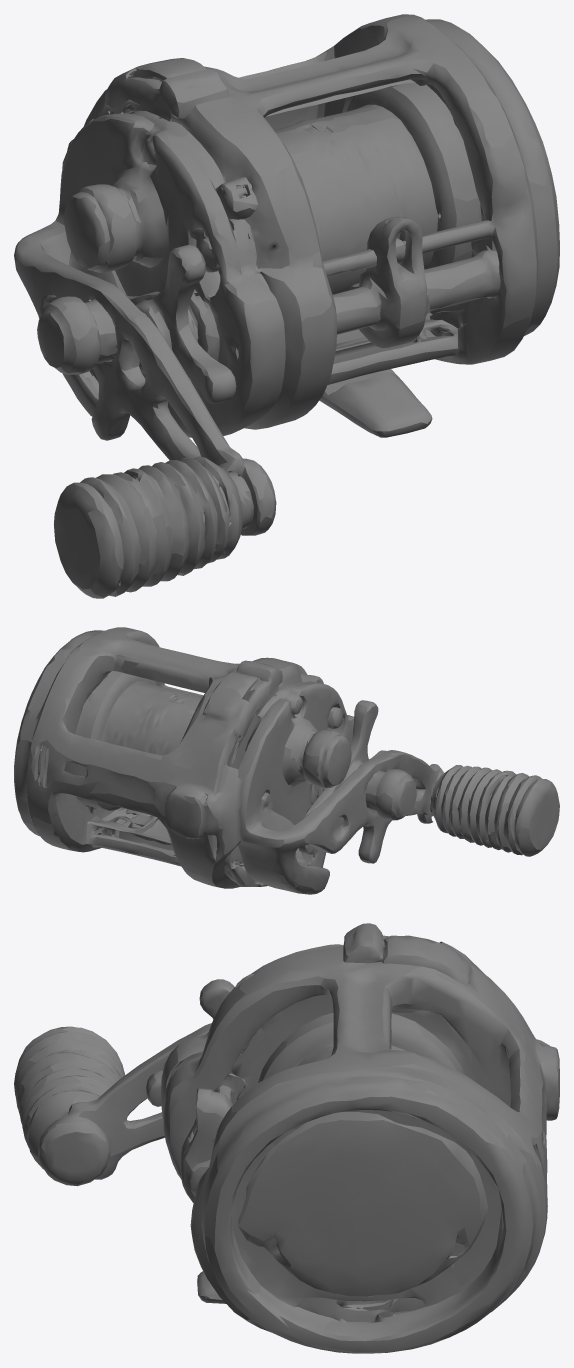
Rendered from completion_reel_1.glb.
The picture shows the model from 3 angles, top to bottom: view 1: azimuth 30°, elevation 25°; view 2: azimuth 150°, elevation 25°; view 3: azimuth 270°, elevation 25°; orthographic projection. The views are drawn at different scales.
Parts seen in each view (by area): view 1: geometry_0; view 2: geometry_0; view 3: geometry_0.
Boxes of the visible parts, box(x1,y1,x2,y2) form: geometry_0: box(14, 14, 559, 598); geometry_0: box(14, 627, 559, 894); geometry_0: box(14, 923, 559, 1353).
Size of the model in its own units: 1 by 0.5792 by 0.9063.
1 material, 1 textured.
